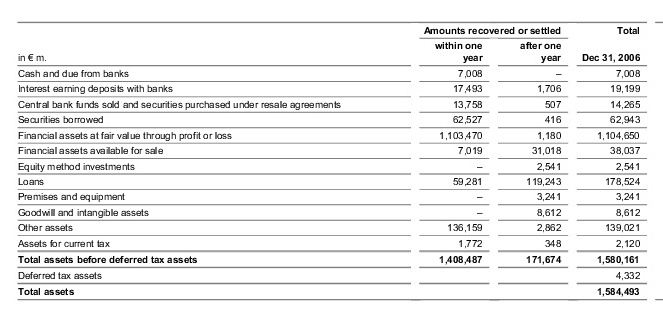table: (0, 0, 663, 315)
